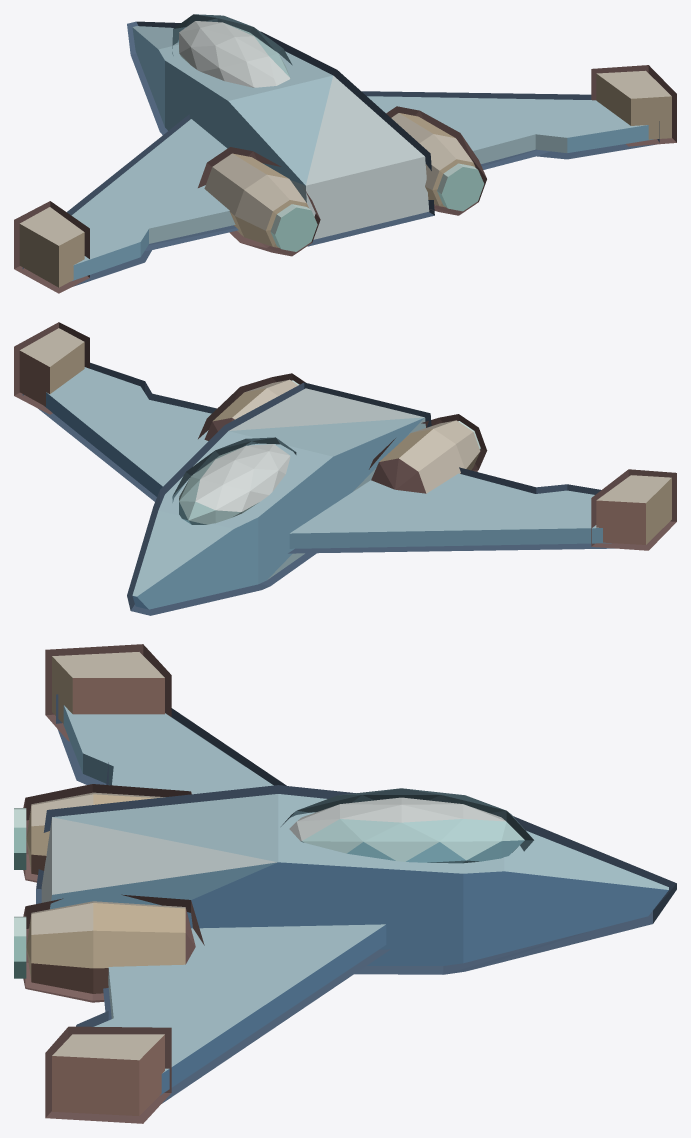
The model's file is ship_air_kite_c0.glb.
3 renders of one model, top to bottom at view 1: azimuth 30°, elevation 25°; view 2: azimuth 150°, elevation 25°; view 3: azimuth 270°, elevation 25°, orthographic. The views are drawn at different scales.
Parts seen in each view (by area): view 1: ship_air_kite_c0; view 2: ship_air_kite_c0; view 3: ship_air_kite_c0.
Part boxes in pixels (left/top/right/bottom): ship_air_kite_c0: left=14, top=14, right=676, bottom=293; ship_air_kite_c0: left=14, top=322, right=676, bottom=615; ship_air_kite_c0: left=14, top=644, right=676, bottom=1123.
Size of what is drawn, in the model's own units: 9.53 by 1.61 by 6.45.
